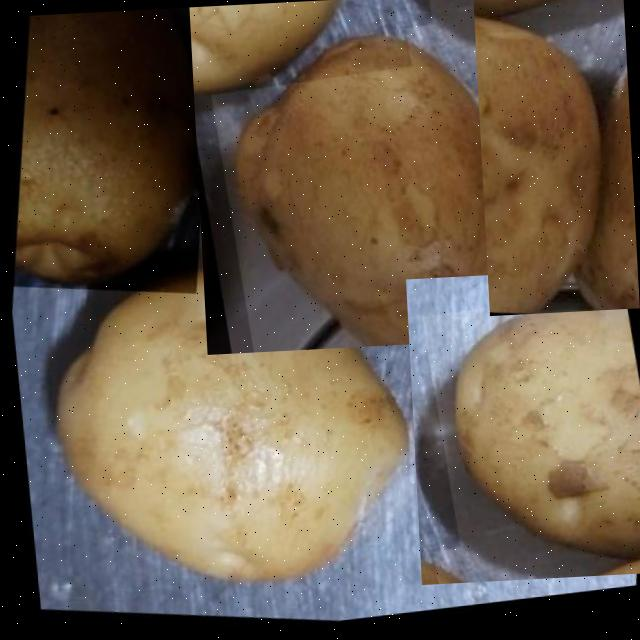Potato: (6, 220, 448, 634), (189, 0, 575, 354), (0, 4, 243, 314), (406, 266, 640, 584), (473, 0, 640, 315)
